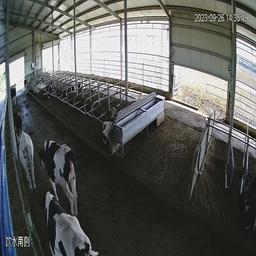cow: (31, 179, 103, 256), (35, 134, 81, 218), (15, 124, 37, 182), (239, 172, 256, 233), (102, 102, 119, 149), (12, 109, 24, 146), (42, 82, 56, 103), (64, 80, 82, 96), (8, 81, 17, 108), (33, 79, 47, 95), (23, 76, 29, 97)
